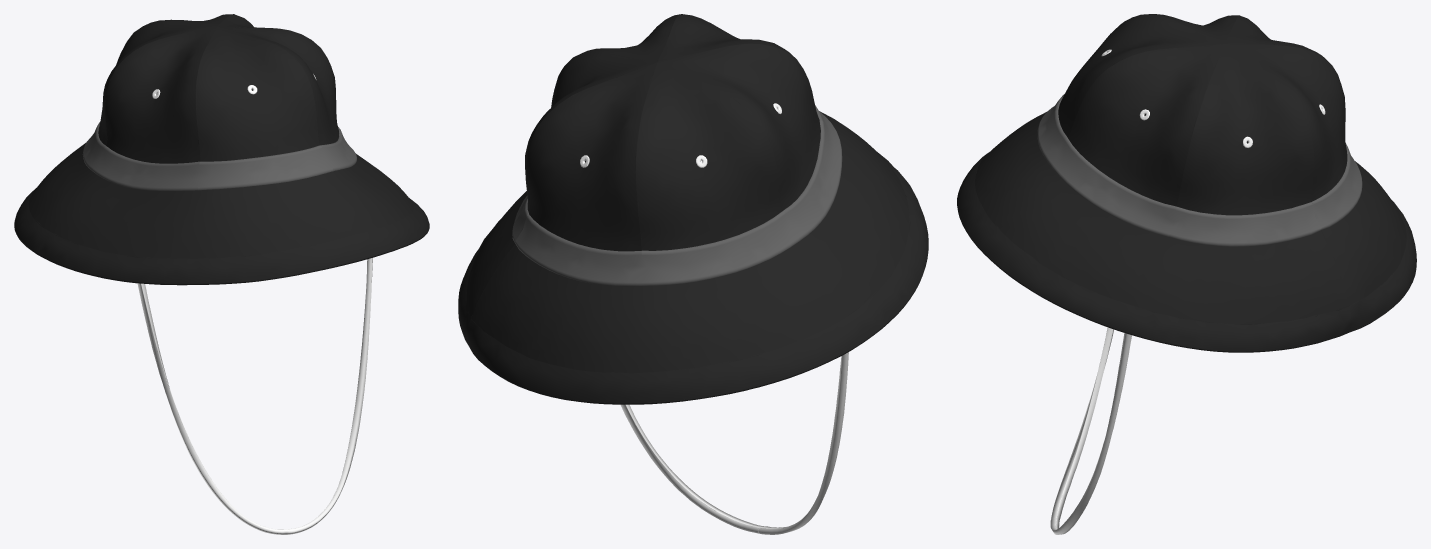
Rendered from new_hat.glb.
3 views of the same model, side by side, from view 1: azimuth 30°, elevation 25°; view 2: azimuth 150°, elevation 25°; view 3: azimuth 270°, elevation 25° (orthographic). The views are drawn at different scales.
Visible parts, largest first — view 1: Object_2, Object_6, Object_4, Object_3; view 2: Object_2, Object_6, Object_4, Object_3; view 3: Object_2, Object_6, Object_4, Object_3.
Part boxes in pixels (bbox=[...]): Object_2: bbox=[14, 14, 429, 283]; Object_6: bbox=[82, 121, 356, 190]; Object_4: bbox=[137, 258, 372, 534]; Object_3: bbox=[14, 14, 429, 285]; Object_2: bbox=[458, 14, 928, 403]; Object_6: bbox=[512, 105, 842, 286]; Object_4: bbox=[620, 352, 848, 534]; Object_3: bbox=[466, 14, 928, 404]; Object_2: bbox=[957, 14, 1416, 351]; Object_6: bbox=[1037, 94, 1362, 246]; Object_4: bbox=[1050, 327, 1131, 534]; Object_3: bbox=[957, 14, 1412, 352].
Size of the model in its own units: 310 by 390 by 332.
Materials: 4 (4 with a texture image).
